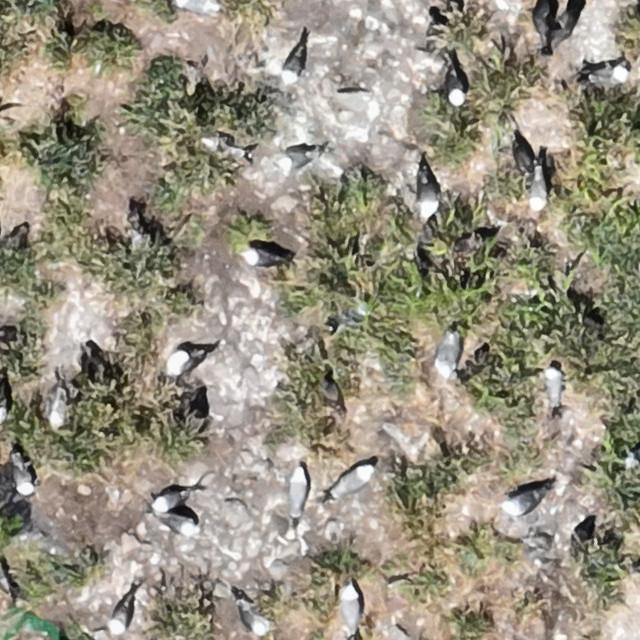umineko: (200, 132, 253, 161), (167, 346, 212, 376), (238, 593, 269, 636), (332, 466, 372, 494), (340, 587, 362, 632), (529, 162, 548, 213), (418, 175, 438, 218), (51, 385, 70, 430), (591, 63, 629, 84), (13, 459, 35, 495), (439, 336, 459, 375), (111, 599, 133, 633), (288, 471, 306, 511), (506, 492, 538, 514), (446, 71, 466, 106), (162, 514, 195, 534), (544, 369, 562, 405), (285, 48, 304, 81), (176, 0, 219, 14), (154, 493, 184, 512), (281, 150, 314, 167), (246, 250, 280, 266)
